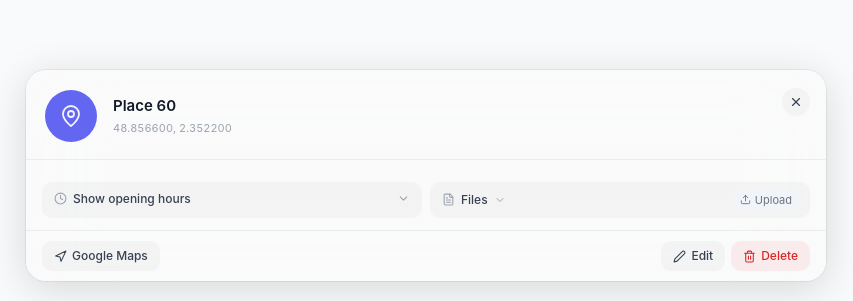
Test: PlaceInspector › FE-PLANNER-INSPECTOR-025: opening hours shown when available
// Wait for hours to load — the button text shows a day's hours line
What coordinates should you click on to do the following:
click the button "Show opening hours"
I would click on:
 (132, 198)
Its box is [42,182,422,216].
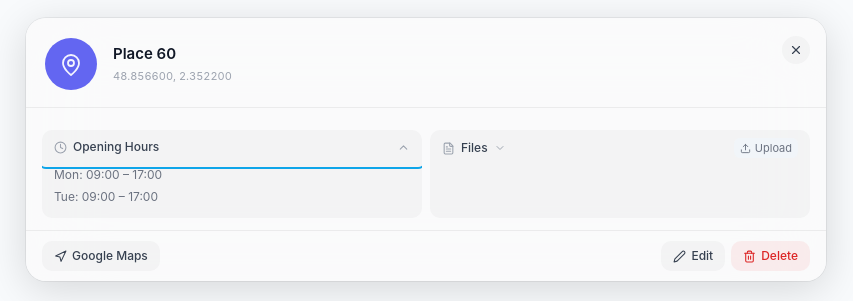
Now the text "Mon: 09:00 – 17:00" is shown, box [54,167,162,182]
